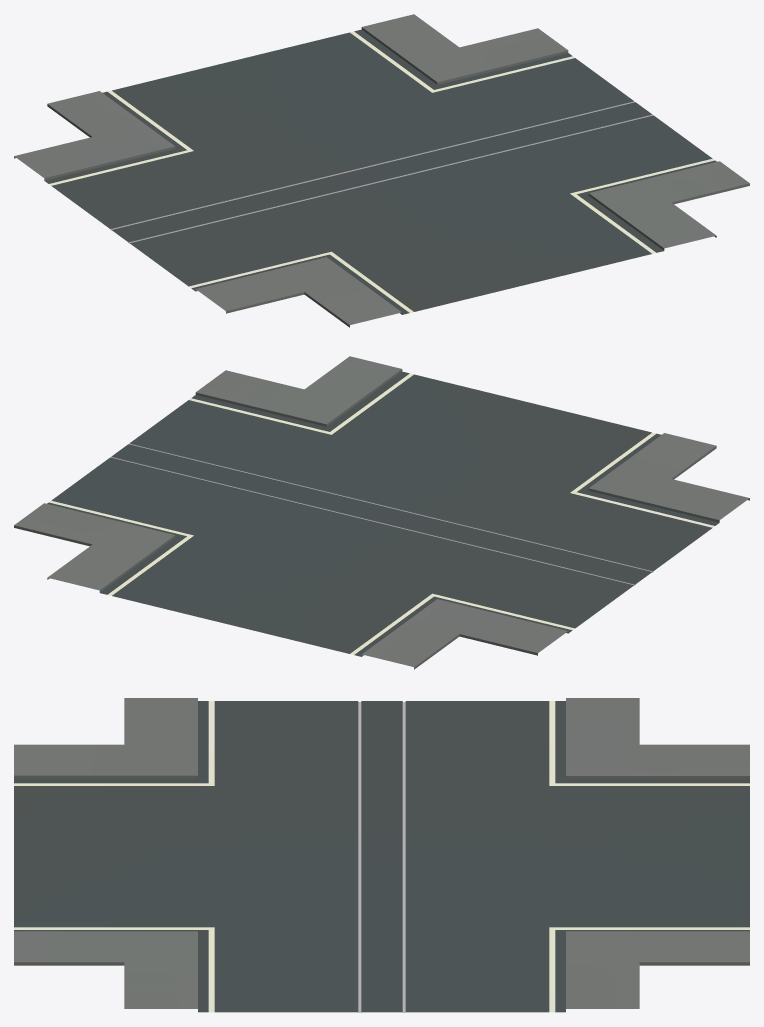
File: city_road_crossroads.glb
The picture shows the model from 3 angles, top to bottom: view 1: azimuth 30°, elevation 25°; view 2: azimuth 150°, elevation 25°; view 3: azimuth 270°, elevation 25°; orthographic projection. The views are drawn at different scales.
Parts seen in each view (by area): view 1: Road_Crossroads_4; view 2: Road_Crossroads_4; view 3: Road_Crossroads_4.
Part boxes in pixels (x1,y1,x2,y2): Road_Crossroads_4: (14, 14, 749, 327); Road_Crossroads_4: (14, 356, 749, 669); Road_Crossroads_4: (14, 698, 749, 1012).
Bounding box in the file's own units: 8.57 × 0.0492 × 8.57.
1 material, 1 textured.
